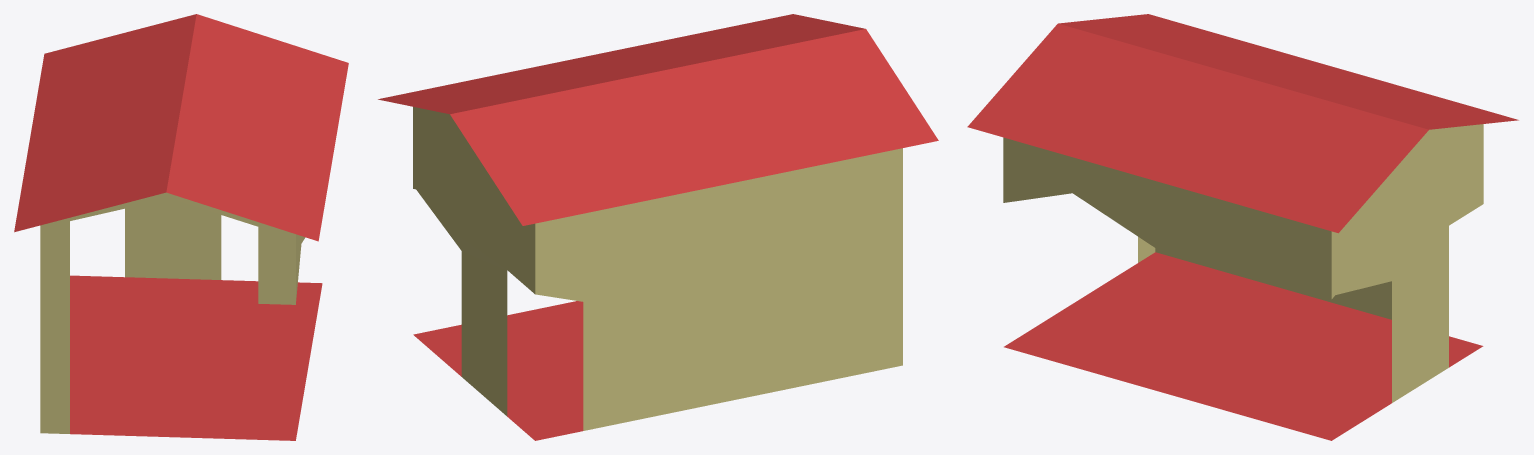
The picture shows the model from 3 angles, left to right: view 1: azimuth 30°, elevation 25°; view 2: azimuth 150°, elevation 25°; view 3: azimuth 270°, elevation 25°; orthographic projection. The views are drawn at different scales.
Visible parts, largest first — view 1: group_3, group_6, group_5, group_4; view 2: group_5, group_3, group_6, group_4; view 3: group_3, group_5, group_6, group_4.
Part boxes in pixels (left/top/right/bottom): group_3: left=14, top=14, right=348, bottom=241; group_6: left=70, top=275, right=322, bottom=440; group_5: left=40, top=192, right=305, bottom=433; group_4: left=135, top=14, right=227, bottom=201; group_5: left=413, top=107, right=902, bottom=430; group_3: left=378, top=14, right=938, bottom=225; group_6: left=413, top=301, right=583, bottom=440; group_4: left=450, top=28, right=864, bottom=153; group_3: left=967, top=14, right=1518, bottom=233; group_5: left=1003, top=124, right=1483, bottom=402; group_6: left=1004, top=252, right=1483, bottom=440; group_4: left=1043, top=23, right=1442, bottom=129.
Bounding box in the file's own units: 29.89 × 31.82 × 17.15.
